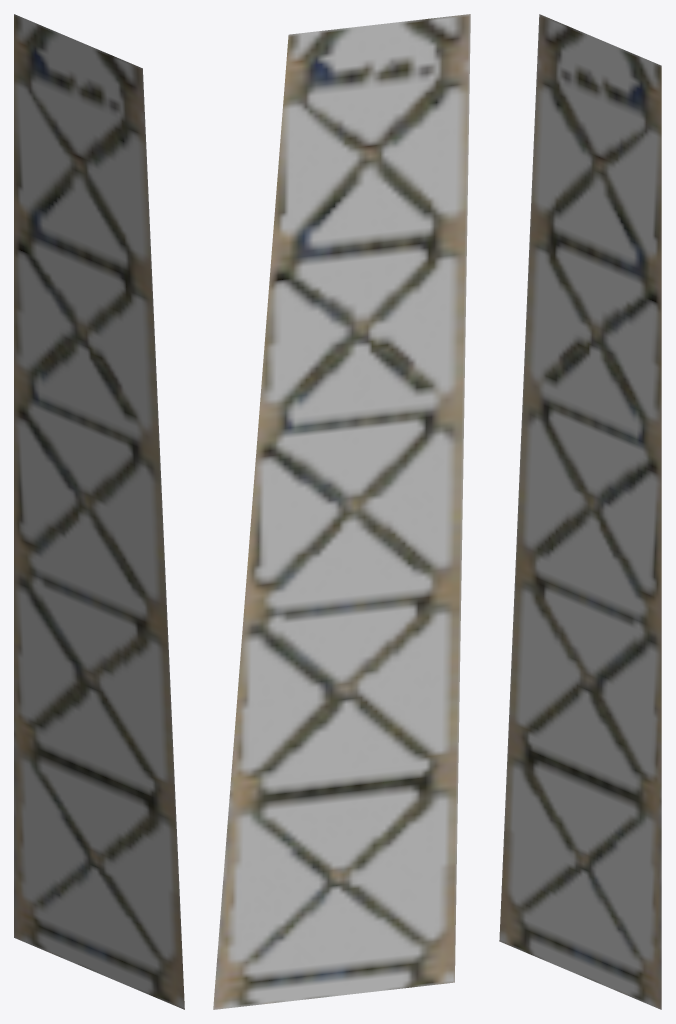
Rendered from 埃菲尔铁塔48.dae.
3 views of the same model, side by side, from view 1: azimuth 90°, elevation 25°; view 2: azimuth 150°, elevation 25°; view 3: azimuth 270°, elevation 25° (orthographic). The views are drawn at different scales.
Visible parts, largest first — view 1: SketchUp; view 2: SketchUp; view 3: SketchUp.
Part boxes in pixels (x1,y1,x2,y2): SketchUp: (14,14,184,1009); SketchUp: (213,14,470,1009); SketchUp: (499,14,661,1009).
Bounding box in the file's own units: 384 × 308 × 1909.
1 material, 1 textured.
